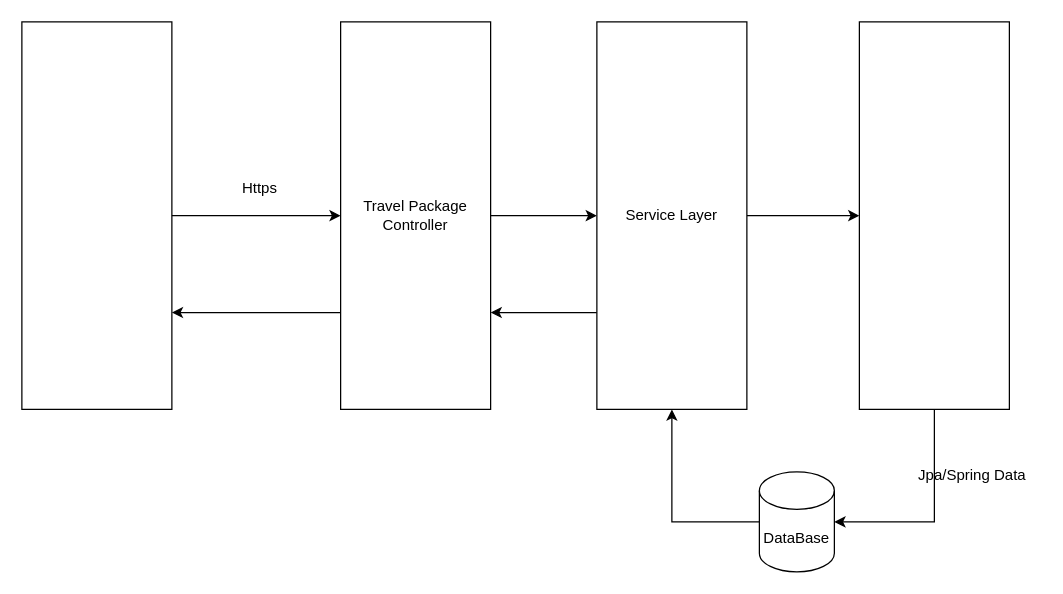
The diagram is 1063 pixels wide and 594 high, and some of its shapes have lost their labels. Each missing label, with the centre of its shape:
"Client" goes at (x=96, y=215).
"Model" goes at (x=933, y=215).
